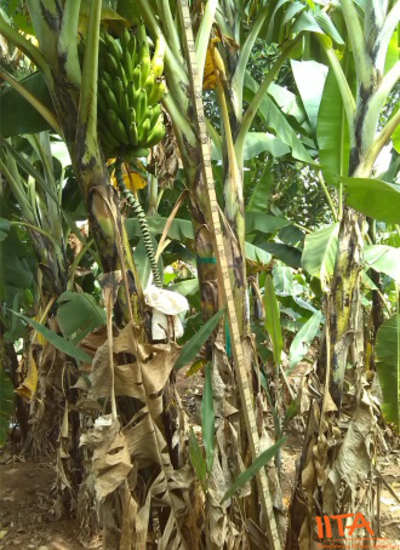bananaHand: (90, 15, 170, 159)
